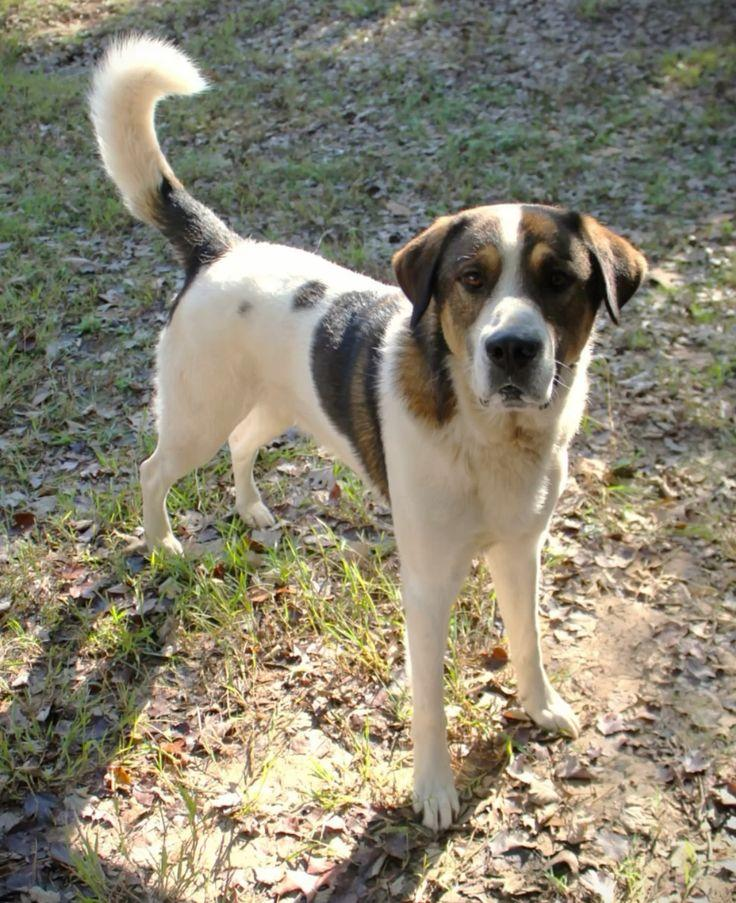dog: (91, 37, 645, 826)
